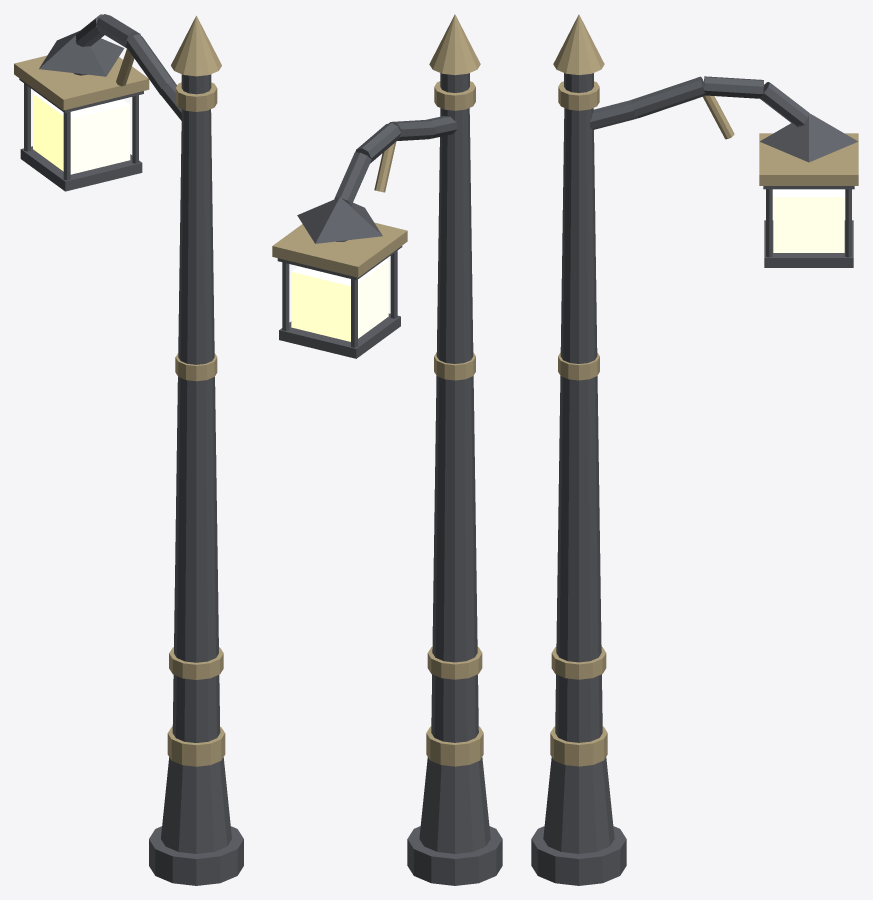
Rendered from classic-streetlamp.glb.
The picture shows the model from 3 angles, left to right: view 1: azimuth 30°, elevation 25°; view 2: azimuth 150°, elevation 25°; view 3: azimuth 270°, elevation 25°; orthographic projection.
Parts seen in each view (by area): view 1: tapered_shaft_3, warm_glass_16, decorative_base_1, roof_trim_22, wide_foot_0, lantern_top_23, lantern_floor_17, finial_8, base_trim_2, arched_arm_10, collar_4, collar_6 (+6 smaller); view 2: tapered_shaft_3, decorative_base_1, warm_glass_16, roof_trim_22, wide_foot_0, lantern_top_23, lantern_floor_17, finial_8, base_trim_2, collar_4, arched_arm_12, arched_arm_11 (+8 smaller); view 3: tapered_shaft_3, decorative_base_1, warm_glass_16, roof_trim_22, wide_foot_0, lantern_top_23, finial_8, lantern_floor_17, arched_arm_10, base_trim_2, arched_arm_11, collar_4 (+4 smaller).
Boxes of the visible parts, bbox=[...] form: tapered_shaft_3: bbox=[172, 109, 220, 742]; warm_glass_16: bbox=[33, 92, 130, 174]; decorative_base_1: bbox=[161, 757, 231, 853]; roof_trim_22: bbox=[14, 55, 149, 110]; wide_foot_0: bbox=[149, 826, 243, 885]; lantern_top_23: bbox=[39, 30, 124, 76]; lantern_floor_17: bbox=[20, 146, 142, 191]; finial_8: bbox=[171, 15, 221, 76]; base_trim_2: bbox=[167, 726, 225, 766]; arched_arm_10: bbox=[125, 34, 176, 94]; collar_4: bbox=[169, 647, 223, 679]; collar_6: bbox=[175, 82, 217, 111]; tapered_shaft_3: bbox=[431, 108, 478, 742]; decorative_base_1: bbox=[419, 757, 490, 853]; warm_glass_16: bbox=[291, 260, 388, 341]; roof_trim_22: bbox=[272, 222, 407, 277]; wide_foot_0: bbox=[407, 826, 502, 885]; lantern_top_23: bbox=[297, 197, 382, 243]; lantern_floor_17: bbox=[279, 313, 400, 358]; finial_8: bbox=[429, 14, 480, 75]; base_trim_2: bbox=[426, 726, 483, 766]; collar_4: bbox=[427, 646, 482, 679]; arched_arm_12: bbox=[334, 152, 371, 204]; arched_arm_11: bbox=[355, 123, 400, 163]; tapered_shaft_3: bbox=[555, 108, 602, 742]; decorative_base_1: bbox=[543, 757, 614, 853]; warm_glass_16: bbox=[773, 189, 844, 252]; roof_trim_22: bbox=[759, 133, 858, 185]; wide_foot_0: bbox=[531, 826, 626, 885]; lantern_top_23: bbox=[760, 113, 857, 162]; finial_8: bbox=[553, 14, 604, 74]; lantern_floor_17: bbox=[764, 220, 853, 267]; arched_arm_10: bbox=[631, 76, 705, 118]; base_trim_2: bbox=[550, 726, 607, 766]; arched_arm_11: bbox=[703, 76, 763, 98]; collar_4: bbox=[551, 647, 606, 679].
Size of the model in its own units: 0.5 by 4.74 by 1.65.
